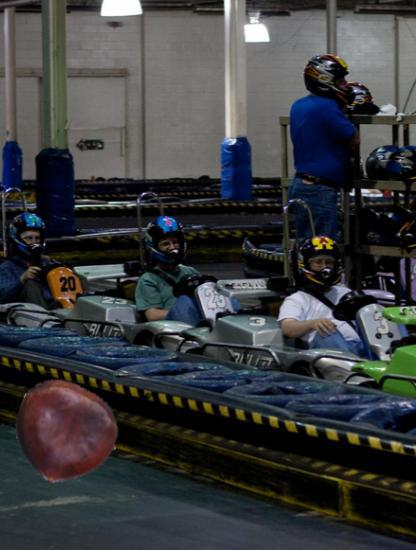Chestnut: (13, 382, 118, 487)
